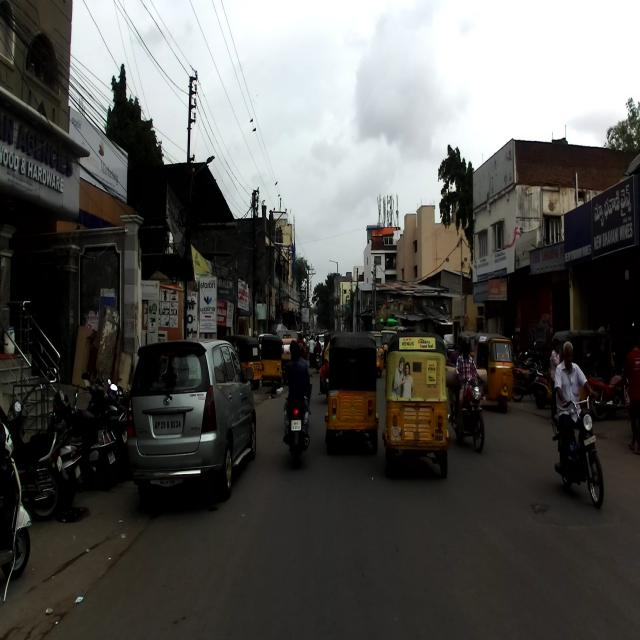autorickshaw: (381, 331, 450, 479), (324, 331, 379, 456)
car: (126, 337, 256, 509)
motorcycle: (552, 387, 604, 508), (446, 376, 486, 453), (282, 372, 311, 465)
